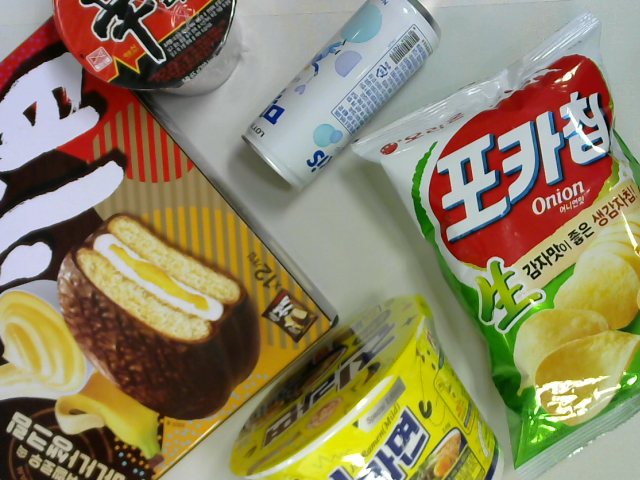Choco_Pie_Banana: (1, 12, 339, 477)
Jinlamyeon_Mild_Taste_Large_Cup: (226, 293, 505, 480)
Milkies_250ml: (242, 1, 444, 194)
Pocachip_Onion: (349, 10, 640, 480)
Sinramen_small: (54, 1, 243, 97)
